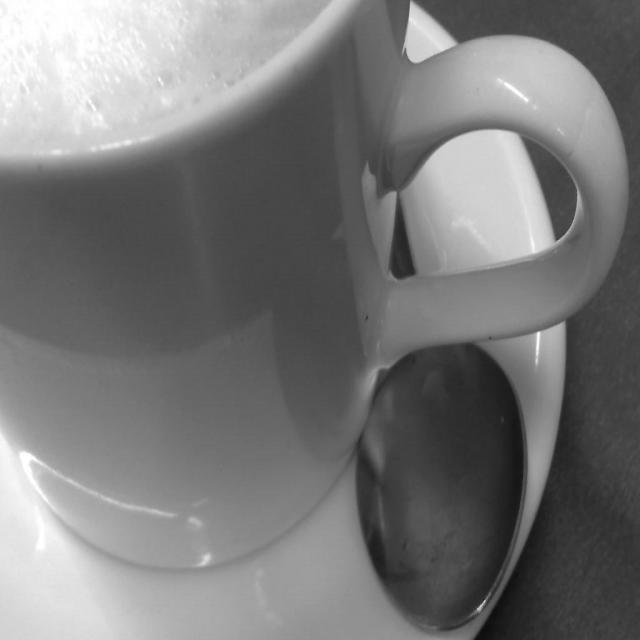Coffee: (0, 0, 331, 146)
